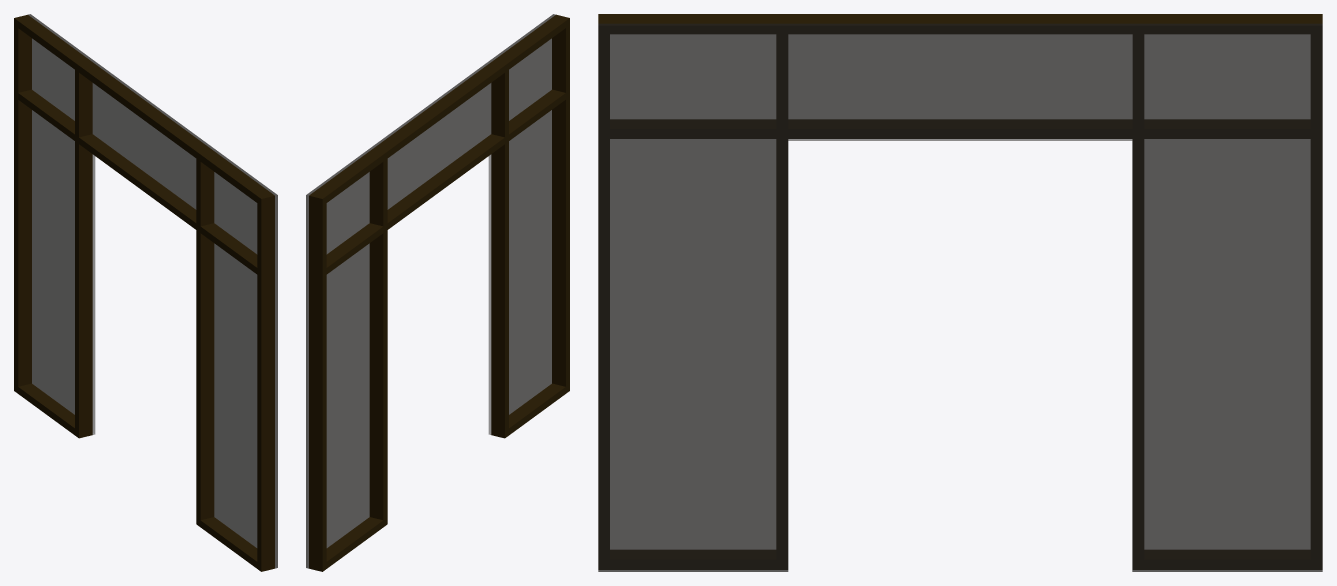
Rendered from LongWindowArcGeneral(ARC).fbx.
3 renders of one model, left to right at view 1: azimuth 30°, elevation 25°; view 2: azimuth 150°, elevation 25°; view 3: azimuth 270°, elevation 25°, orthographic. The views are drawn at different scales.
Parts seen in each view (by area): view 1: Glass; view 2: Glass; view 3: Glass.
Boxes of the visible parts, x1=… form: Glass: x1=14, y1=14, x2=277, y2=571; Glass: x1=306, y1=14, x2=569, y2=571; Glass: x1=598, y1=14, x2=1322, y2=571.
Size of the model in its own units: 120 by 2600 by 3126.
